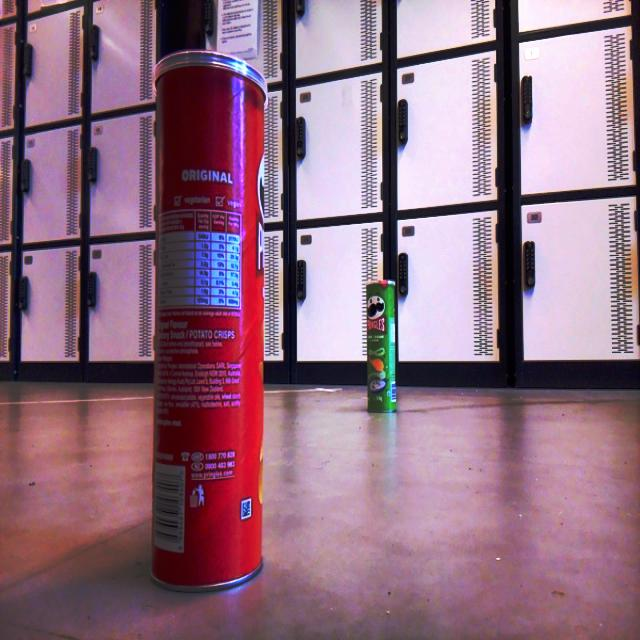greenpringles: (353, 260, 403, 434)
redpringles: (134, 34, 298, 610)
